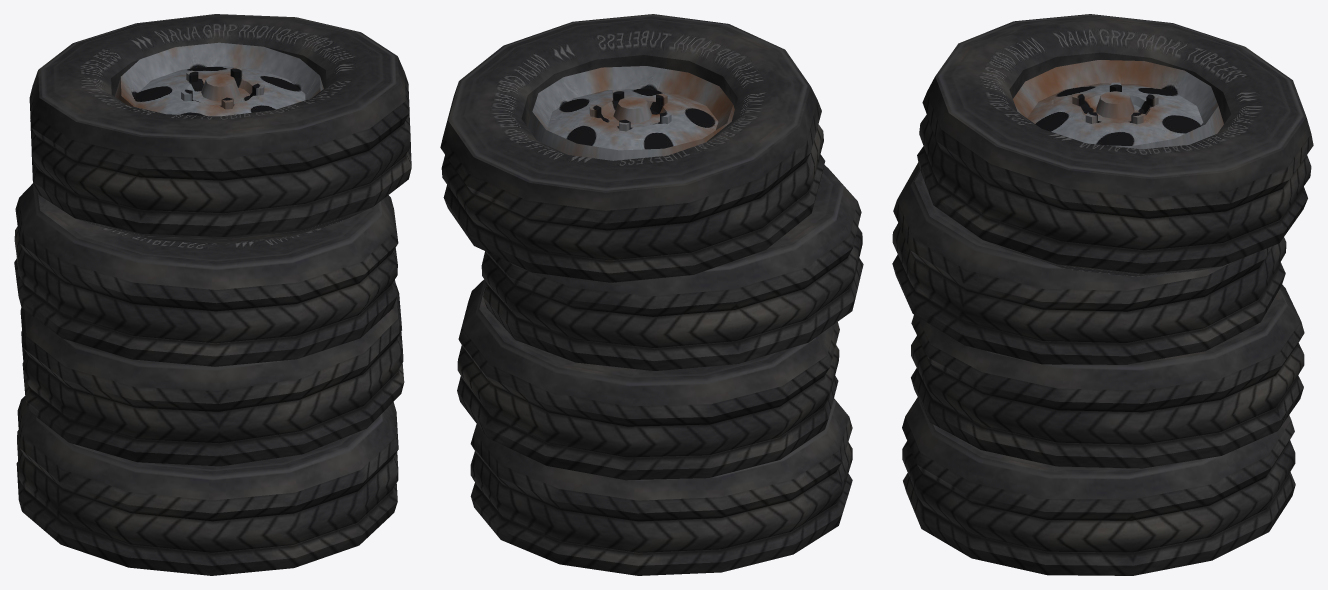
The model's file is prop_soft_tyres.glb.
3 renders of one model, left to right at view 1: azimuth 30°, elevation 25°; view 2: azimuth 150°, elevation 25°; view 3: azimuth 270°, elevation 25°, orthographic. The views are drawn at different scales.
Visible parts, largest first — view 1: prop_soft_tyres_body; view 2: prop_soft_tyres_body; view 3: prop_soft_tyres_body.
Boxes of the visible parts, <box> form: prop_soft_tyres_body: <box>14,14,411,575</box>; prop_soft_tyres_body: <box>440,14,863,575</box>; prop_soft_tyres_body: <box>892,14,1313,575</box>.
Size of the model in its own units: 0.7148 by 0.8436 by 0.7172.
Materials: 1 (1 with a texture image).
